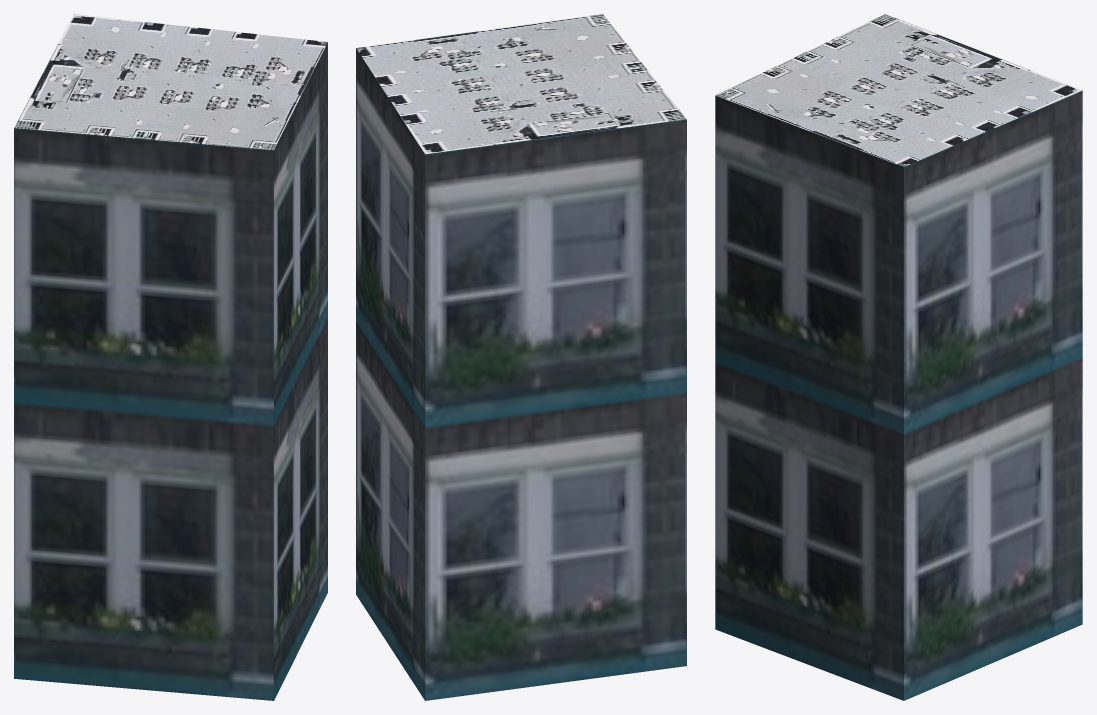
File: ResTex__1746.fbx
The picture shows the model from 3 angles, left to right: view 1: azimuth 30°, elevation 25°; view 2: azimuth 150°, elevation 25°; view 3: azimuth 270°, elevation 25°; orthographic projection. The views are drawn at different scales.
Visible parts, largest first — view 1: CityEngineMaterial_11_m, CityEngineMaterial_m; view 2: CityEngineMaterial_11_m, CityEngineMaterial_m; view 3: CityEngineMaterial_11_m, CityEngineMaterial_m.
Boxes of the visible parts, box(x1,y1,x2,y2) form: CityEngineMaterial_11_m: box(14, 42, 327, 700); CityEngineMaterial_m: box(14, 14, 327, 150); CityEngineMaterial_11_m: box(356, 48, 686, 700); CityEngineMaterial_m: box(356, 14, 686, 154); CityEngineMaterial_11_m: box(715, 90, 1082, 700); CityEngineMaterial_m: box(715, 14, 1082, 166).
Size of the model in its own units: 3.69 by 6 by 3.74.
2 materials, 2 textured.
